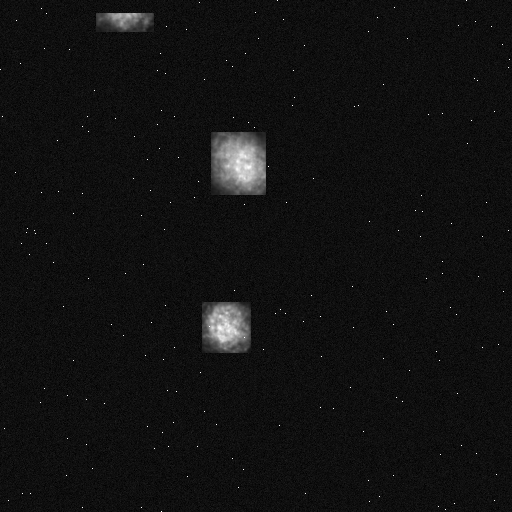lam3: (211, 132, 265, 194), (202, 302, 250, 352), (96, 13, 153, 31)
